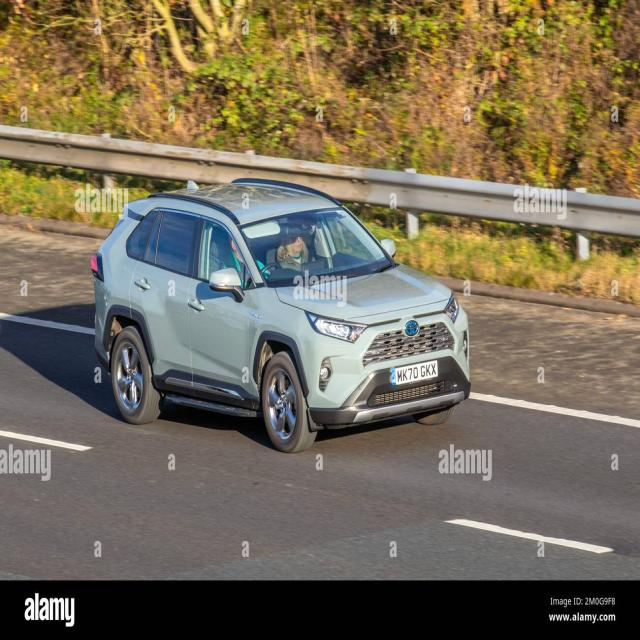light_vehicle: (90, 176, 473, 452)
